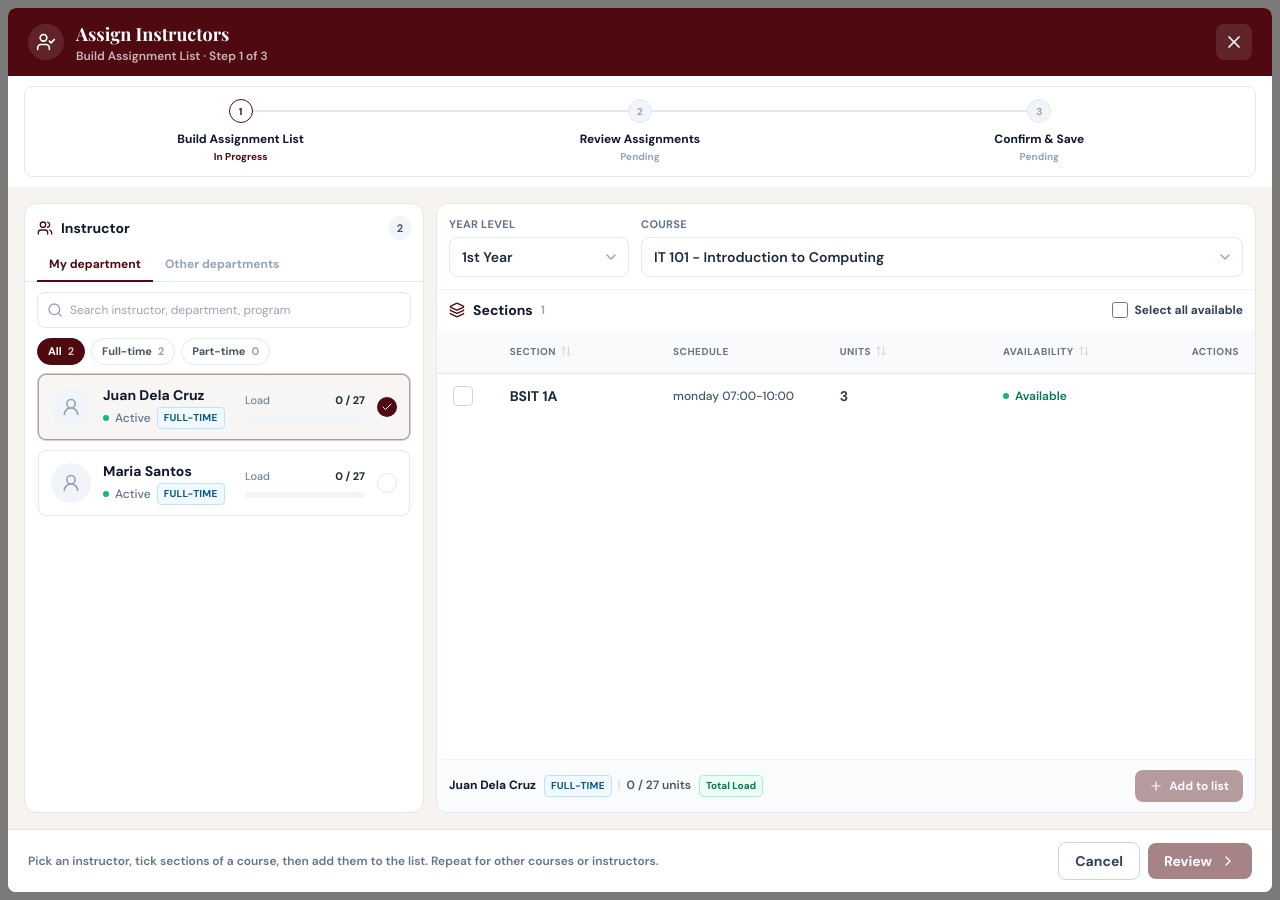
Test: AutoAssignModal instructor conflict › filters the instructor list by name as you type
Type "santos" into the search field named "Search instructors to assign" at (224, 310), box [37,292,411,328]
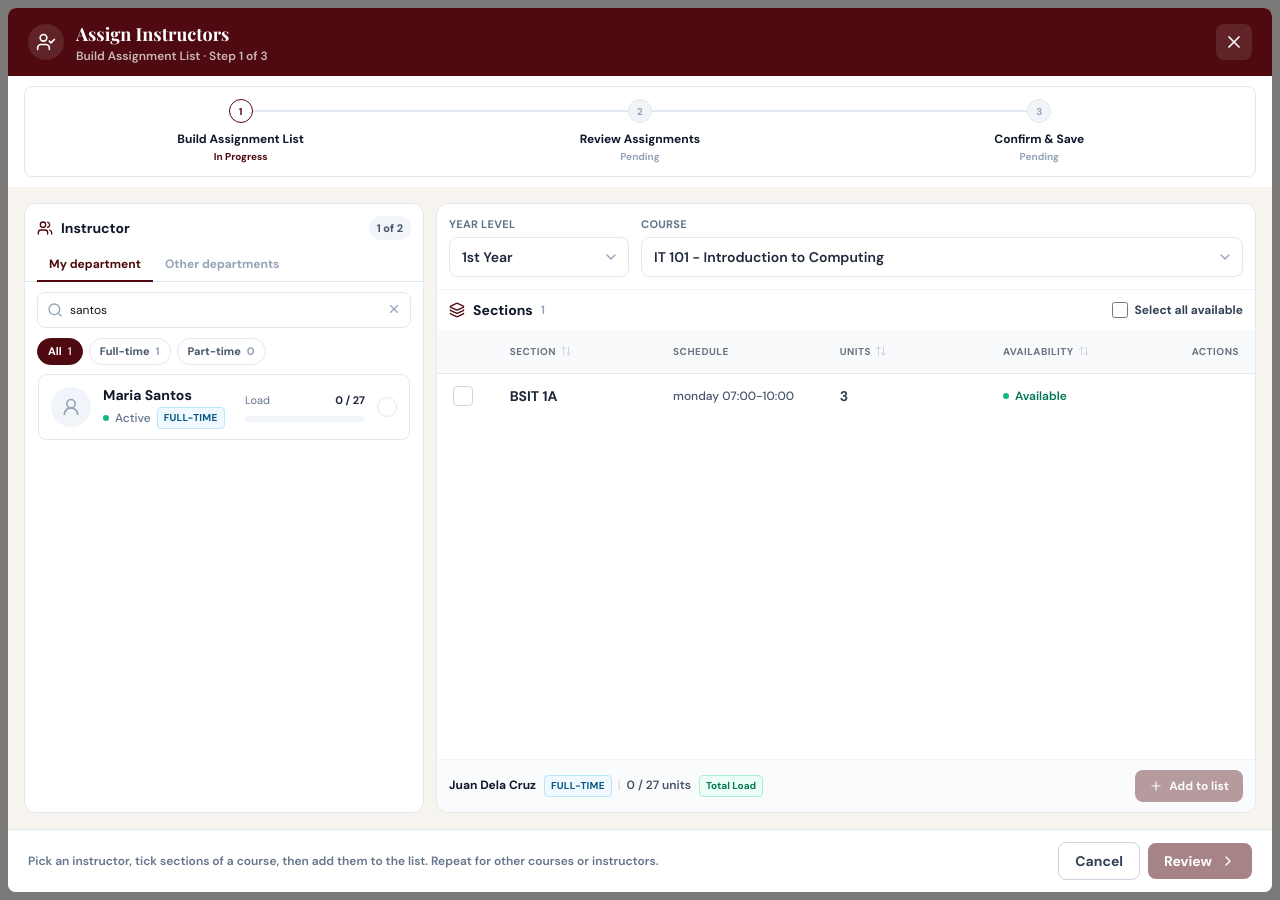
Expected: the button "Maria Santos Active Full-Time Load 0 / 27" is shown, [38,374,410,440]
Expected: the text "1 of 2" is shown, [369,216,411,240]
Replace the text in the search field named "Search instructors to assign" with "nobody" at (224, 310), box [37,292,411,328]
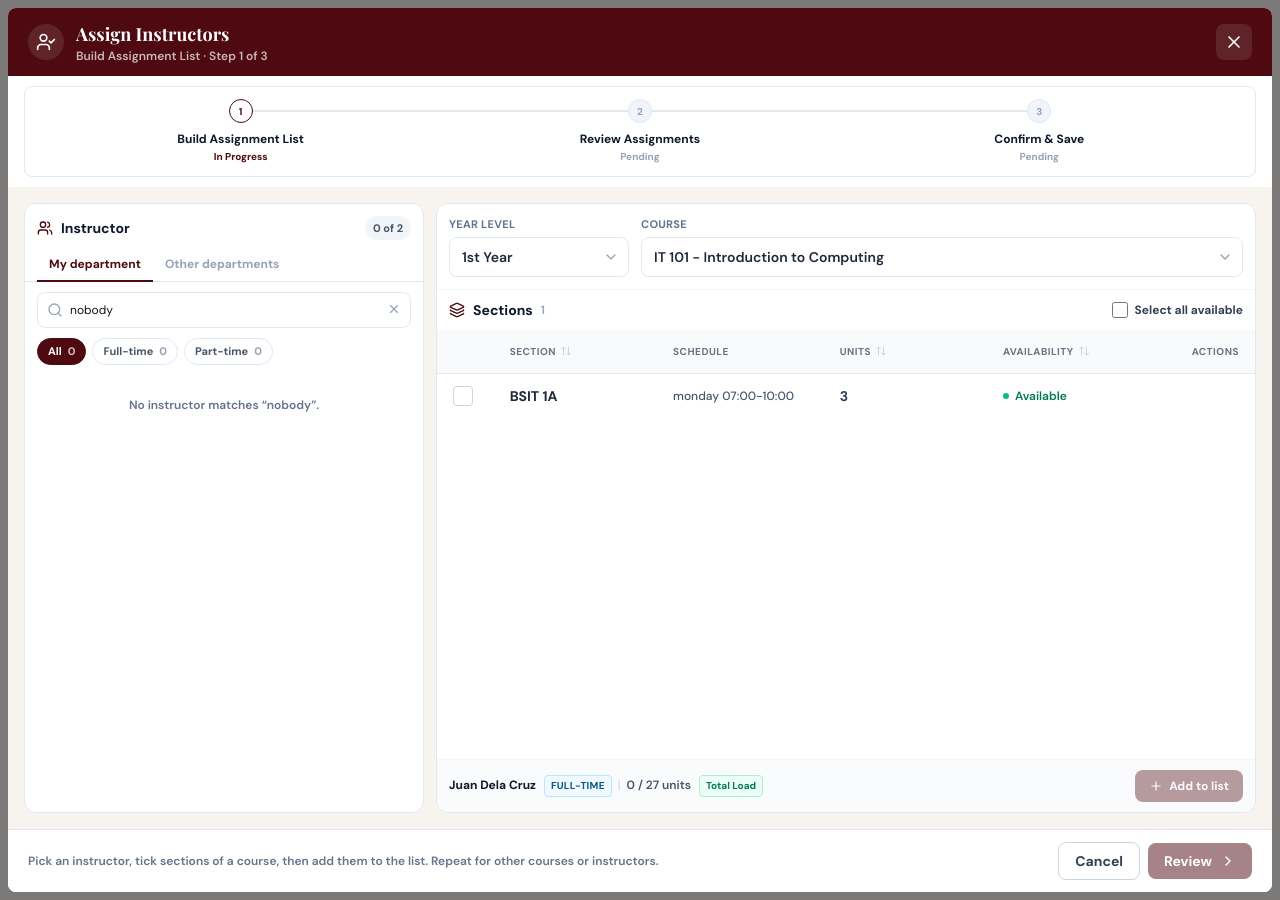
Expected: the text "No instructor matches “nobody”." is shown, [129,396,319,412]
Click the button named "Clear instructor search" at (394, 309), box [385,300,403,318]
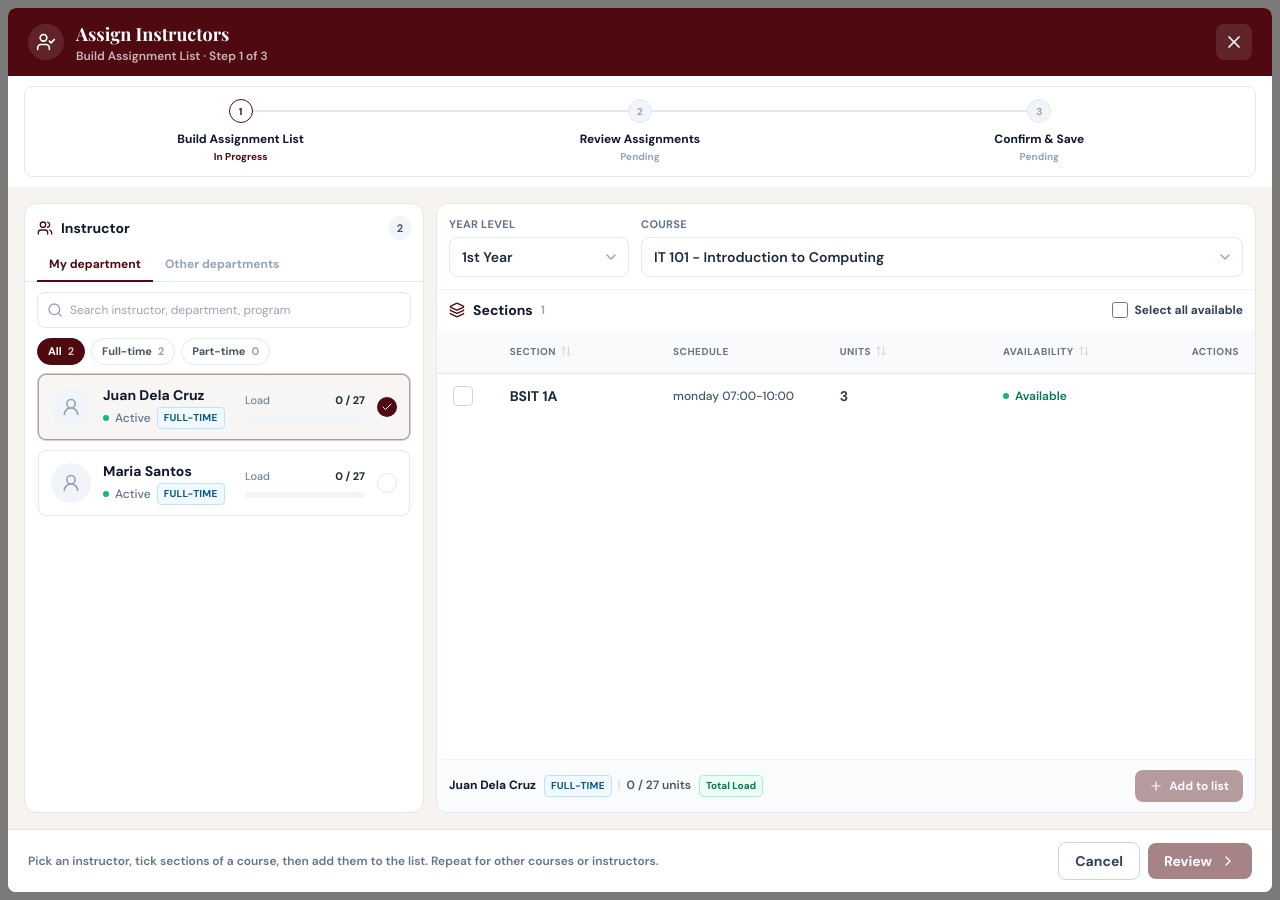
Expected: the button "Juan Dela Cruz Active Full-Time Load 0 / 27" is shown, [38,374,410,440]
